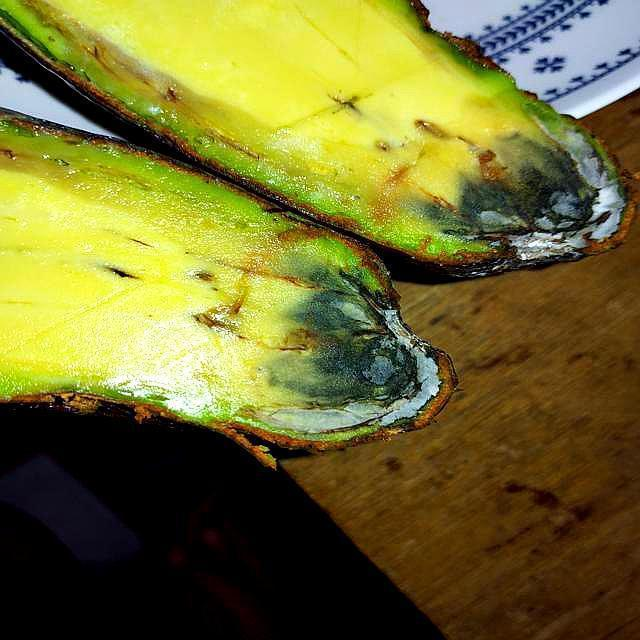Biodegradable: (1, 1, 640, 267), (1, 119, 453, 449)
